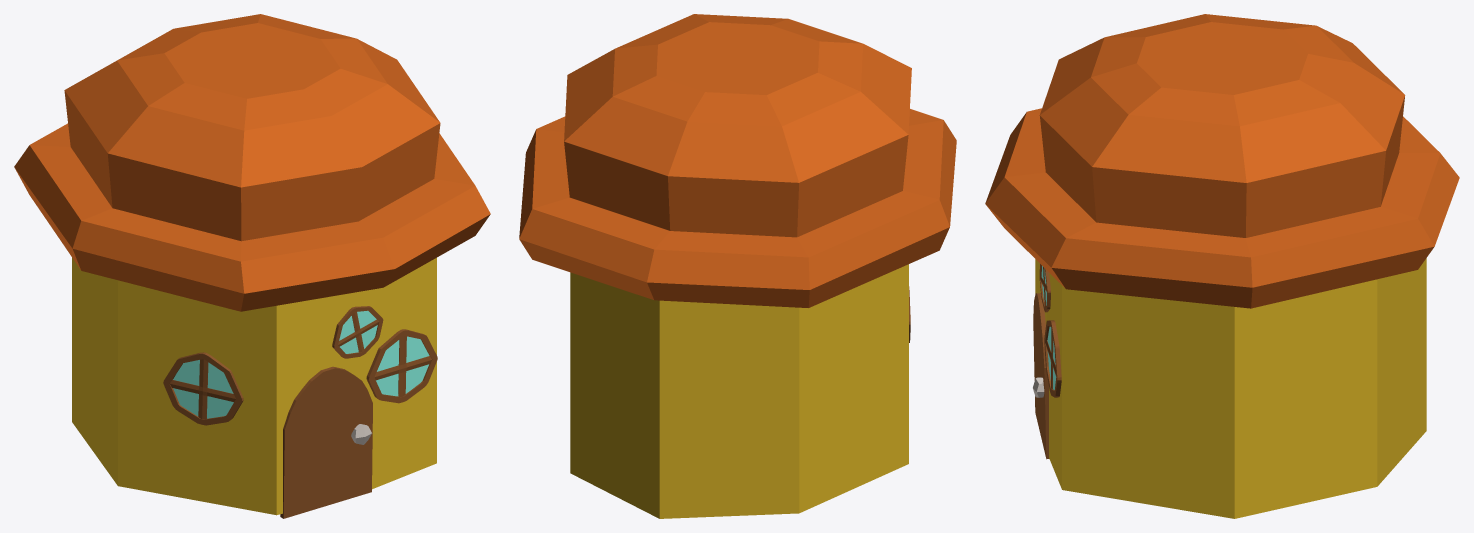
The model's file is WalnutHouse.fbx.
3 renders of one model, left to right at view 1: azimuth 30°, elevation 25°; view 2: azimuth 150°, elevation 25°; view 3: azimuth 270°, elevation 25°, orthographic. The views are drawn at different scales.
Visible parts, largest first — view 1: Cube.023, Cube.019, Cube.025, Cube.032, Cube.027, Cube.031, Cube.028, Cube.030, Cube.029; view 2: Cube.023, Cube.019; view 3: Cube.023, Cube.019, Cube.025, Cube.027.
Boxes of the visible parts, x1,y1,x2,y2 form: Cube.023: (14,14,490,311); Cube.019: (72,257,436,515); Cube.025: (280,366,372,518); Cube.032: (163,352,243,425); Cube.027: (366,329,437,403); Cube.031: (173,360,233,418); Cube.028: (376,336,429,396); Cube.030: (332,306,383,358); Cube.029: (339,310,377,353); Cube.023: (519,14,956,307); Cube.019: (570,264,908,518); Cube.023: (985,14,1459,308); Cube.019: (1035,258,1426,518); Cube.025: (1033,293,1049,459); Cube.027: (1044,320,1061,397).
Bounding box in the file's own units: 955 × 882 × 988.
